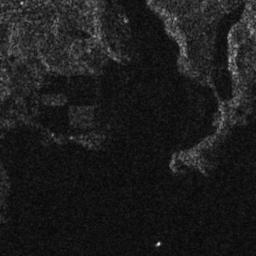ship: (155, 239, 162, 247)
